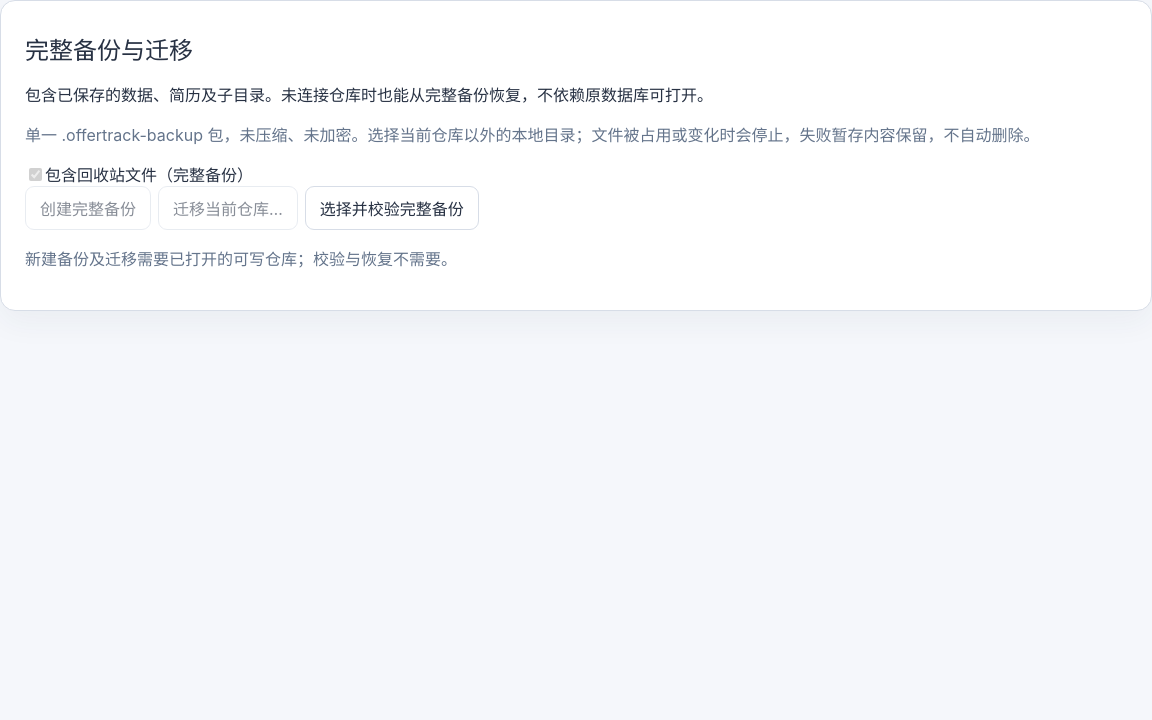
full backup, independent recovery and migration › restores only after package preview, destination selection and confirmation
This screenshot has width=1152, height=720.
Check: the button "创建完整备份" is disabled, box [25, 186, 151, 230]
Check: the button "迁移当前仓库…" is disabled, box [158, 186, 298, 230]
Click the button "选择并校验完整备份": (392, 208) [305, 186, 479, 230]
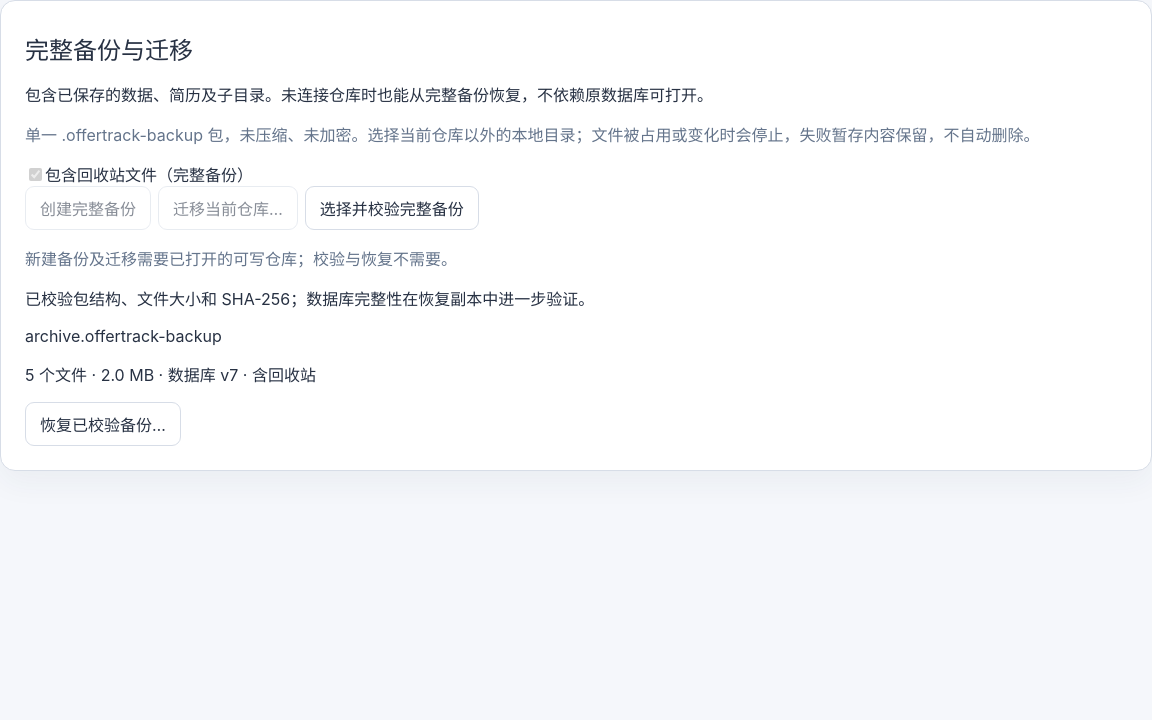
Check: the text "5 个文件 · 2.0 MB · 数据库 v7 · 含回收站" is shown, box [25, 365, 316, 385]
Click the button "恢复已校验备份…": (103, 424) [25, 402, 181, 446]
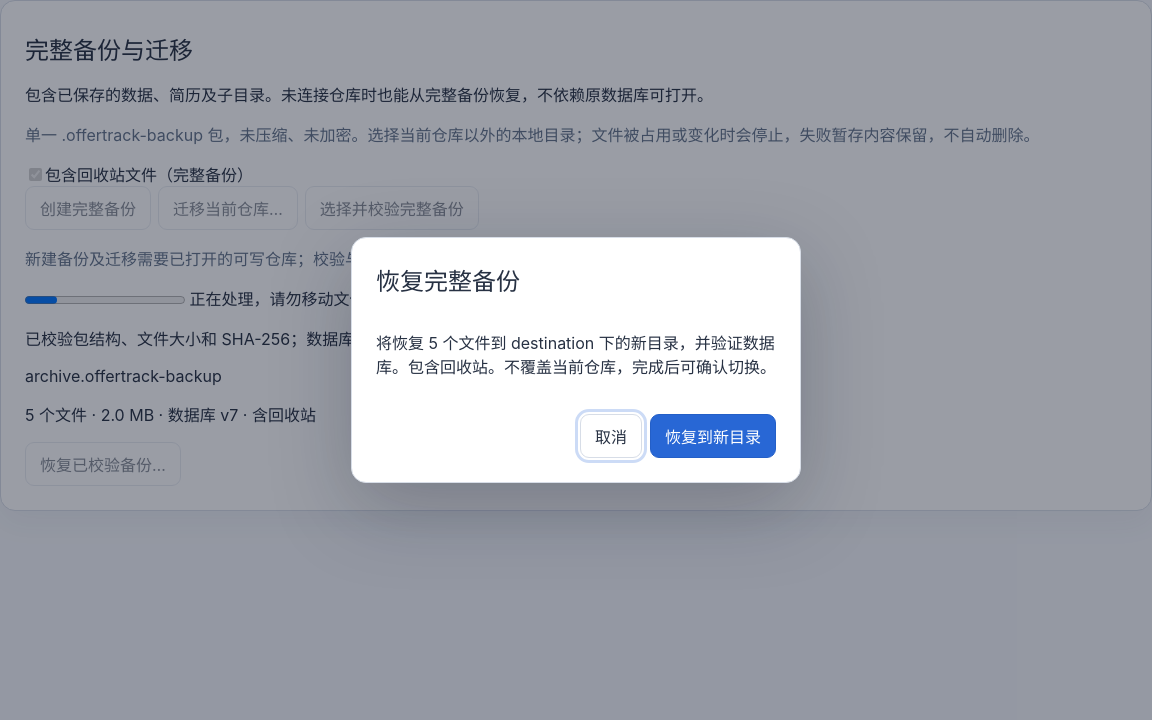
Check: the dialog "恢复完整备份" shows "不覆盖当前仓库", box [376, 333, 776, 377]
Click the button "取消": (611, 436) [580, 414, 642, 458]
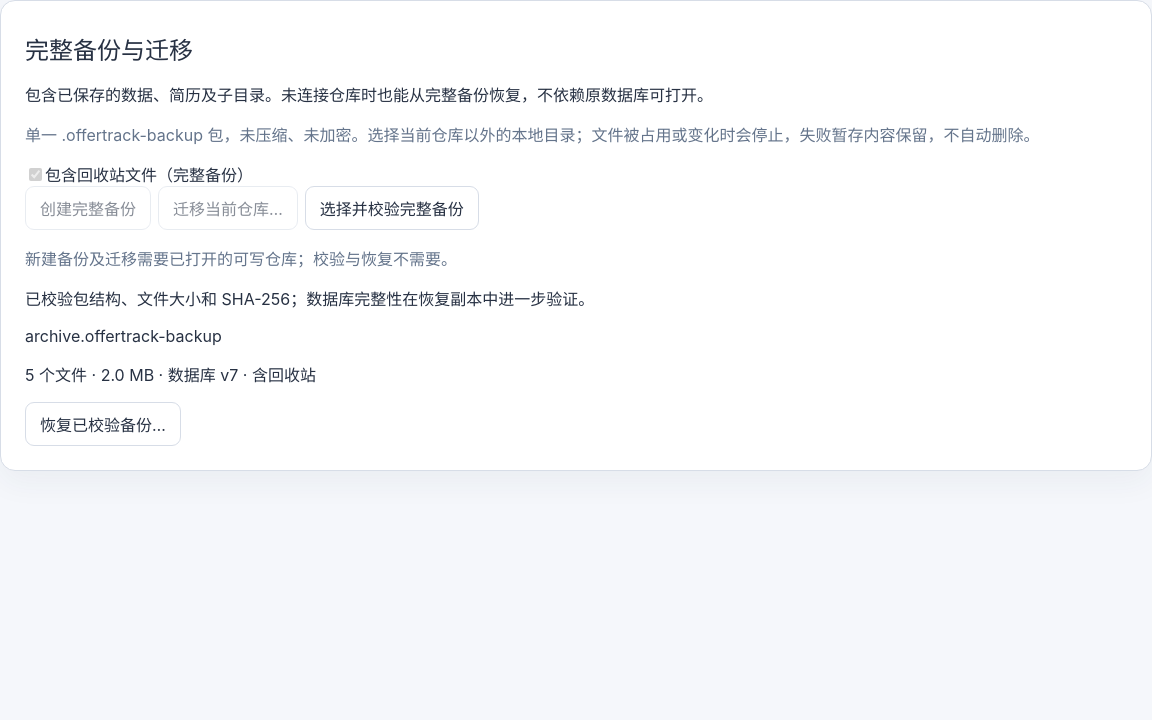
Check: the button "恢复已校验备份…" is enabled
Click the button "恢复已校验备份…": (103, 424) [25, 402, 181, 446]
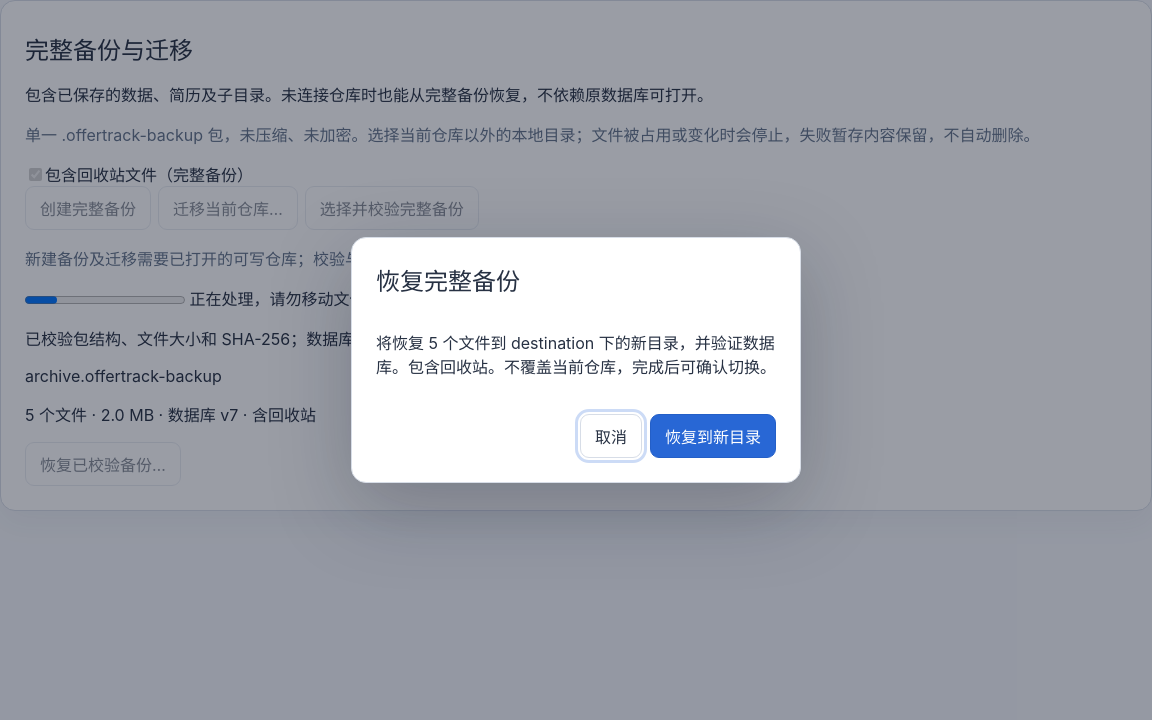
Click the button "恢复到新目录": (713, 436) [650, 414, 776, 458]
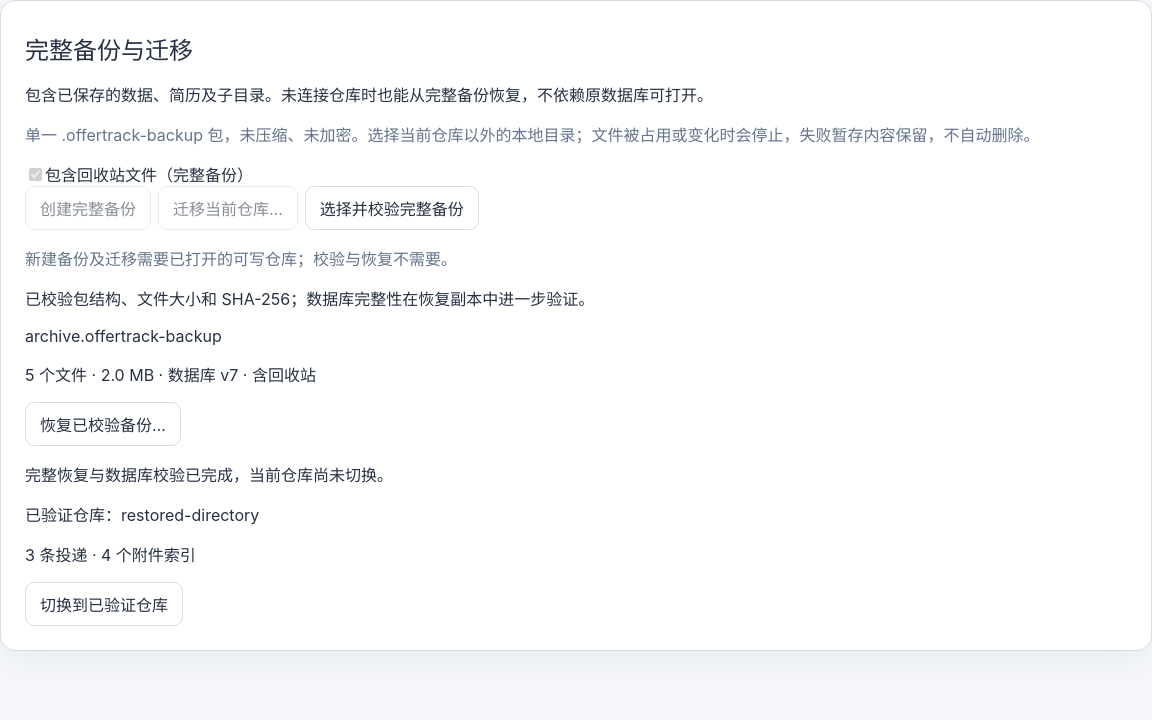
Check: the text "完整恢复与数据库校验已完成，当前仓库尚未切换。" is shown, box [25, 465, 393, 485]
